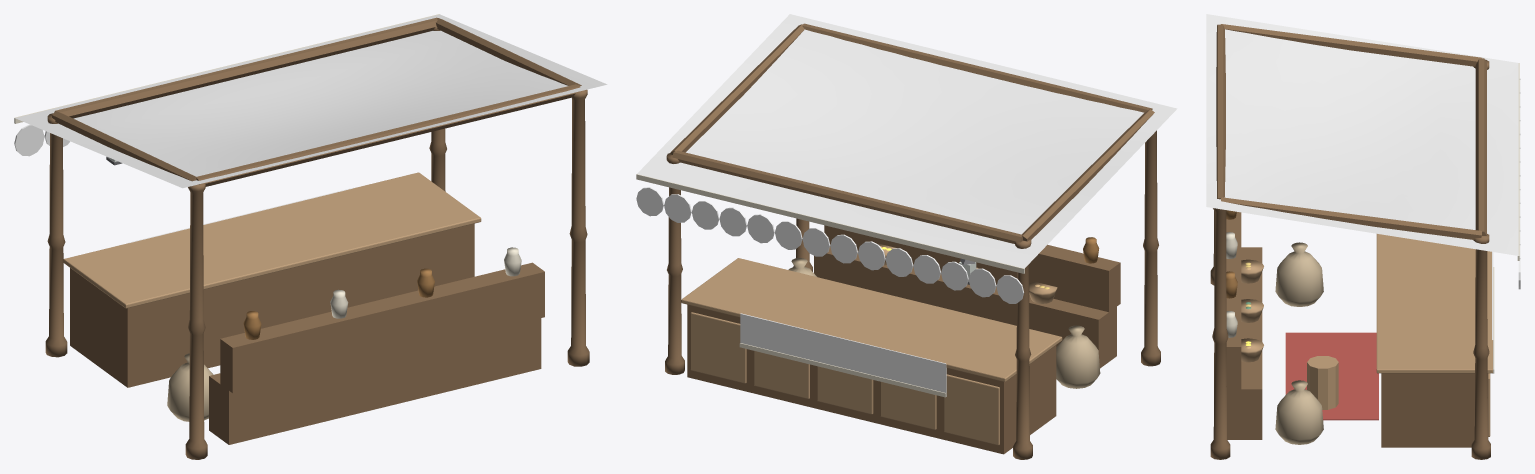
Rendered from market_stall.glb.
3 views of the same model, side by side, from view 1: azimuth 30°, elevation 25°; view 2: azimuth 150°, elevation 25°; view 3: azimuth 270°, elevation 25° (orthographic). The views are drawn at different scales.
Visible parts, largest first — view 1: market_stall; view 2: market_stall; view 3: market_stall.
Part boxes in pixels (x1,y1,x2,y2): market_stall: [14, 14, 607, 459]; market_stall: [636, 14, 1177, 459]; market_stall: [1206, 14, 1520, 459].
Bounding box in the file's own units: 4.9 × 3.06 × 3.37.
